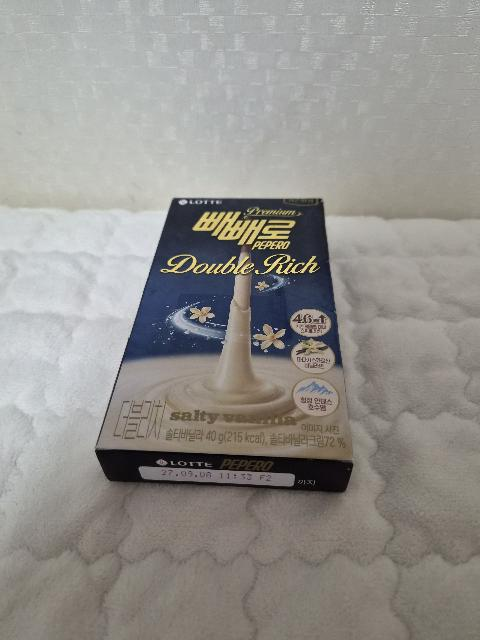pepero: (95, 198, 354, 493)
